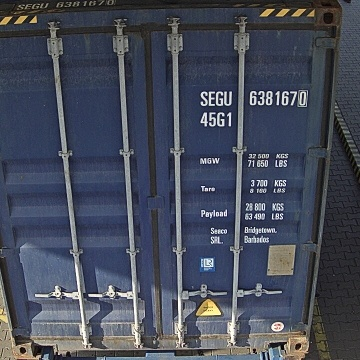serial_id: (200, 90, 307, 105)
